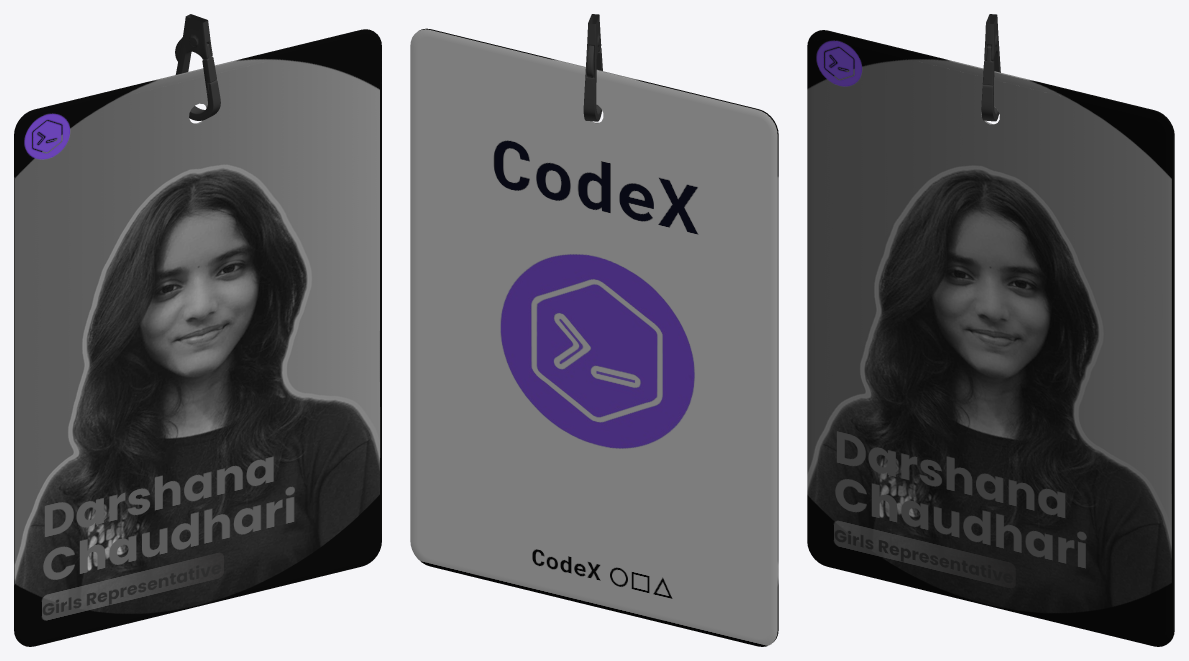
Rendered from darshana.glb.
3 views of the same model, side by side, from view 1: azimuth 30°, elevation 25°; view 2: azimuth 150°, elevation 25°; view 3: azimuth 330°, elevation 25° (orthographic).
Parts seen in each view (by area): view 1: card, clamp; view 2: card, clamp; view 3: card, clamp.
Boxes of the visible parts, x1,y1,x2,y2 form: card: (14, 29, 381, 646); clamp: (175, 14, 220, 120); card: (410, 28, 778, 646); clamp: (583, 14, 602, 121); card: (807, 30, 1174, 646); clamp: (981, 14, 1000, 121).
Bounding box in the file's own units: 0.7164 × 1.1 × 0.0903.
2 materials, 1 textured.
